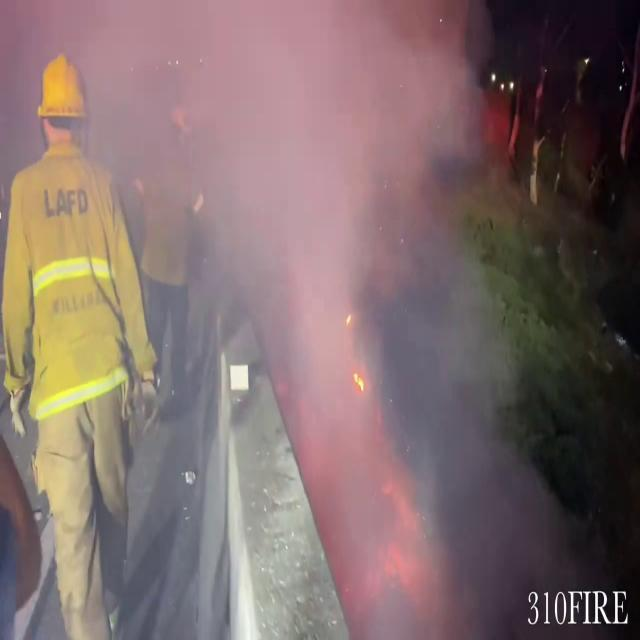Smoke: (88, 1, 512, 602)
